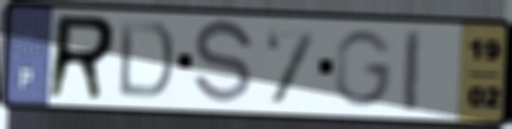7: (262, 23, 318, 108)
D: (114, 17, 177, 103)
G: (333, 27, 397, 110)
I: (402, 27, 423, 114)
R: (43, 11, 120, 103)
S: (190, 17, 257, 110)
